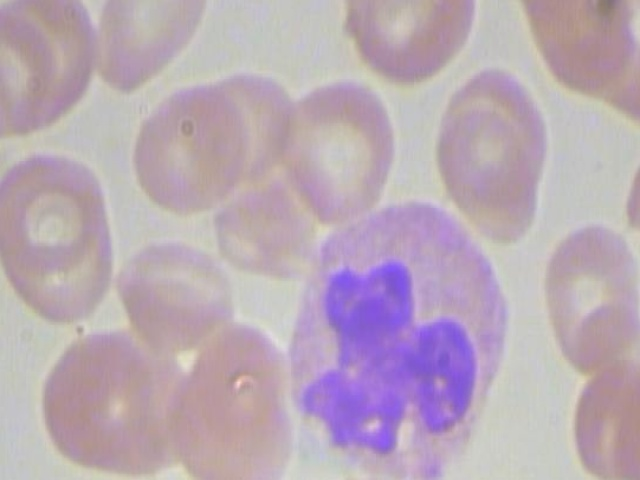RBC: (275, 75, 405, 232), (531, 214, 640, 381), (434, 98, 546, 246), (124, 80, 244, 216), (0, 152, 113, 289), (111, 234, 244, 349), (332, 0, 482, 90), (79, 0, 212, 101), (0, 0, 57, 148), (303, 474, 460, 480)
WBC: (277, 196, 517, 480)
